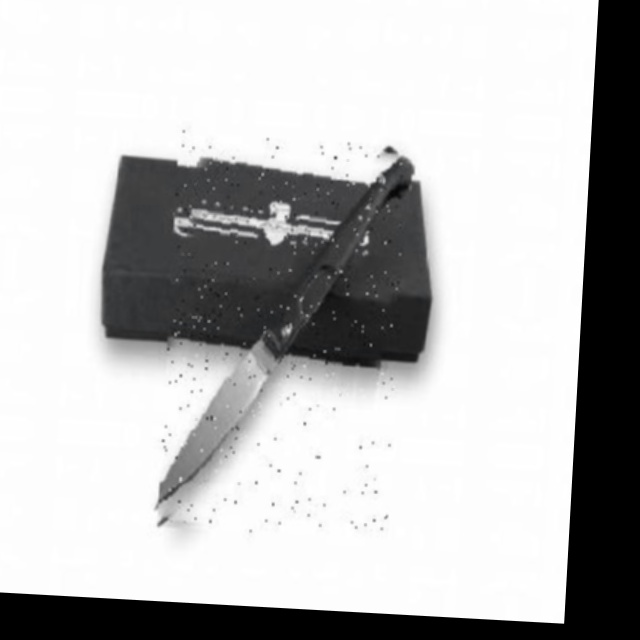Sharp-Object: (158, 129, 409, 540)
